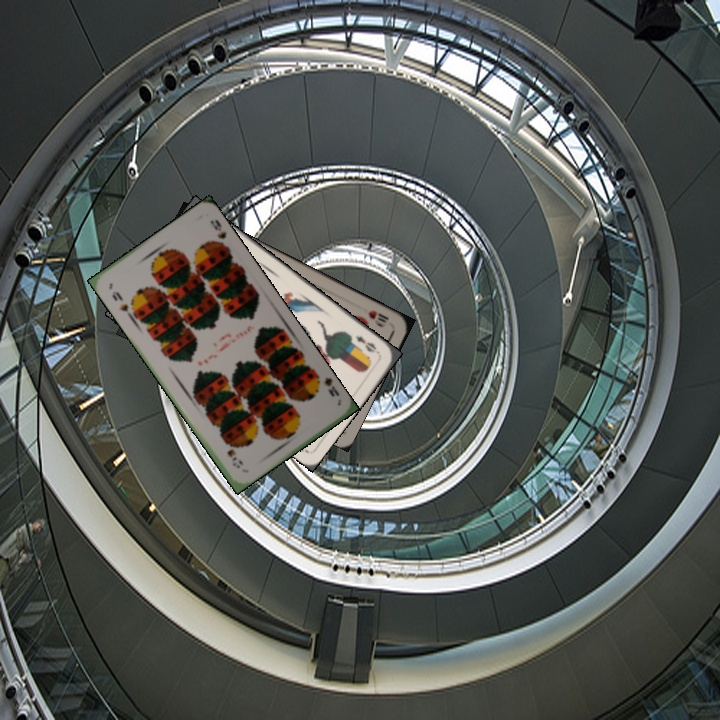EO: (351, 332, 379, 355)
H10: (364, 306, 392, 325)
S9: (309, 369, 342, 399), (108, 287, 134, 319)
